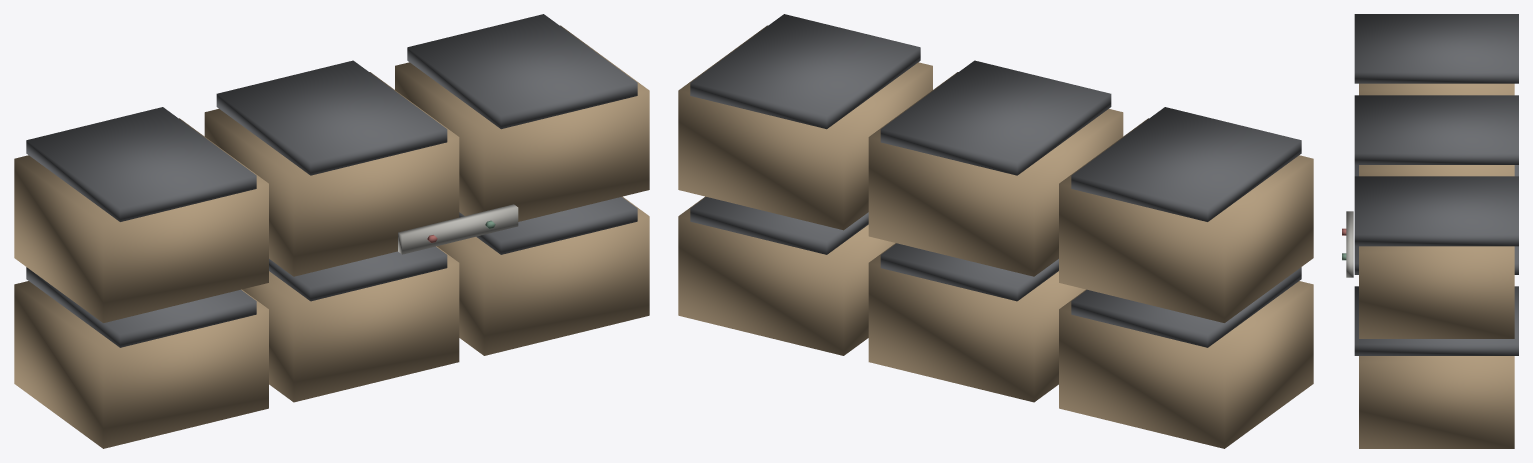
File: fruit_crate_display__squat.glb
3 views of the same model, side by side, from view 1: azimuth 30°, elevation 25°; view 2: azimuth 150°, elevation 25°; view 3: azimuth 270°, elevation 25° (orthographic). The views are drawn at different scales.
Visible parts, largest first — view 1: world; view 2: world; view 3: world.
Part boxes in pixels (box(x1,y1,x2,y2)): world: box(14, 14, 649, 448); world: box(678, 14, 1313, 448); world: box(1342, 14, 1518, 448).
Size of the model in its own units: 1.45 by 0.6048 by 0.4655.
